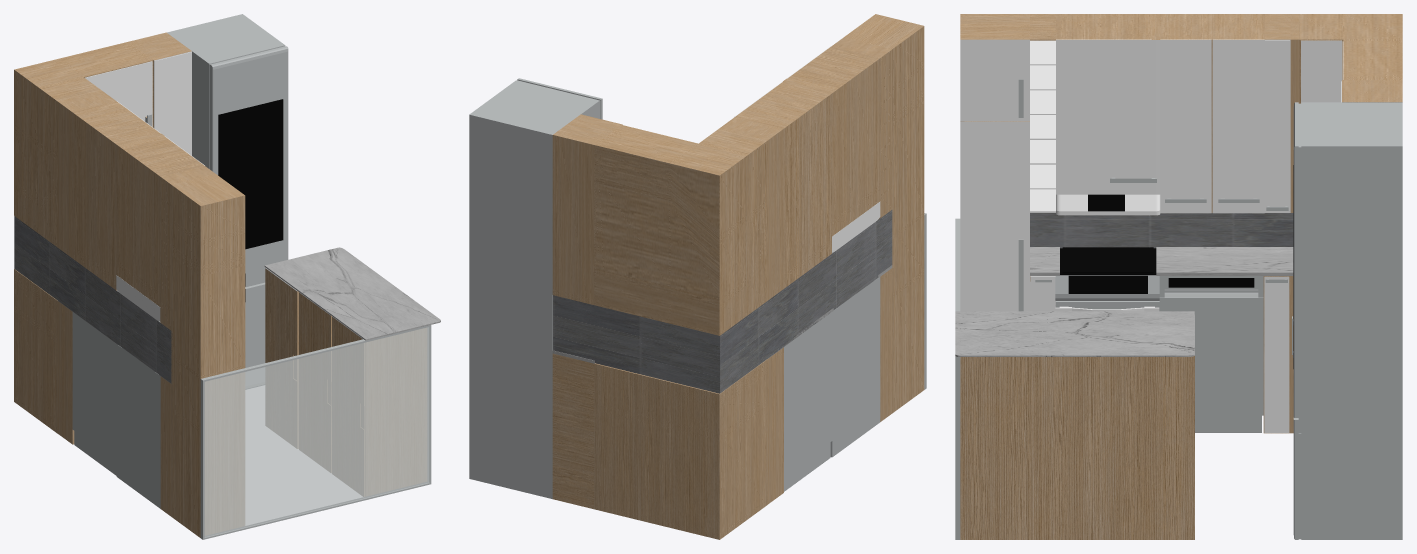
3 renders of one model, left to right at view 1: azimuth 30°, elevation 25°; view 2: azimuth 150°, elevation 25°; view 3: azimuth 270°, elevation 25°, orthographic. The views are drawn at different scales.
Parts seen in each view (by area): view 1: Duga kocka_1, object 1, Ormar.001_8, fridge_10, Cube.003_15, Ormar_7, Plane_20, Polica 3_4, Stove_5, Dishwasher_6, sink_11, Cube.011_24 (+7 smaller); view 2: fridge_10, Cube.003_15, sink_11, Plane_20, Ormar.001_8, Ormar_7, Polica 3_4, Cube.011_24, Stove_5, Dishwasher_6, Cube.009_22, Police_2 (+6 smaller); view 3: object 1, fridge_10, Ormar_7, Ormar.001_8, Polica 3_4, Dishwasher_6, Plane_20, Cube.003_15, Stove_5, Cube.004_16, Police_2, Cube.001_13 (+8 smaller).
Boxes of the visible parts, box(x1,y1,x2,y2) form: Duga kocka_1: box(200, 325, 431, 539); object 1: box(264, 247, 440, 496); Ormar.001_8: box(171, 174, 245, 537); fridge_10: box(167, 14, 288, 388); Cube.003_15: box(14, 41, 153, 247); Ormar_7: box(72, 101, 160, 290); Plane_20: box(14, 216, 172, 383); Polica 3_4: box(116, 133, 204, 306); Stove_5: box(116, 344, 160, 508); Dishwasher_6: box(72, 312, 116, 475); sink_11: box(14, 269, 160, 433); Cube.011_24: box(129, 32, 191, 155); fridge_10: box(469, 78, 602, 498); Cube.003_15: box(594, 125, 767, 335); sink_11: box(594, 359, 767, 539); Plane_20: box(553, 210, 892, 393); Ormar.001_8: box(844, 14, 924, 413); Ormar_7: box(734, 81, 831, 288); Polica 3_4: box(783, 46, 880, 236); Cube.011_24: box(552, 114, 622, 304); Stove_5: box(830, 277, 880, 457); Dishwasher_6: box(784, 312, 832, 491); Cube.009_22: box(552, 353, 594, 509); Police_2: box(832, 37, 892, 218); object 1: box(955, 311, 1194, 539); fridge_10: box(1293, 102, 1402, 539); Ormar_7: box(1160, 14, 1264, 213); Ormar.001_8: box(960, 14, 1029, 311); Polica 3_4: box(1056, 14, 1160, 194); Dishwasher_6: box(1159, 276, 1263, 432); Plane_20: box(1030, 213, 1293, 248); Cube.003_15: box(1299, 14, 1402, 103); Stove_5: box(1055, 247, 1159, 311); Cube.004_16: box(1264, 14, 1290, 212); Police_2: box(1030, 14, 1055, 212); Cube.001_13: box(1263, 276, 1289, 433).
Size of the model in its own units: 1.89 by 2.5 by 2.58.
9 materials, 4 textured.
